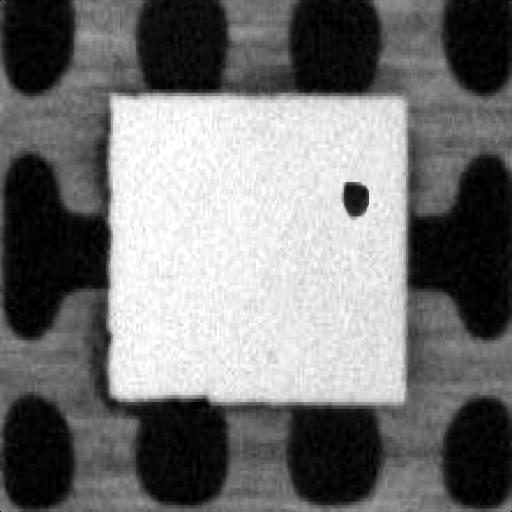DIE_INK: (337, 172, 369, 216)
